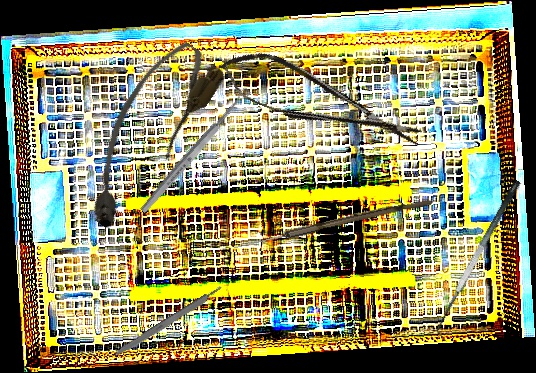Cannula: (61, 32, 230, 237)
Micro Scissor: (211, 37, 429, 168)
Scalpel Handle: (111, 284, 225, 361)
Spatula Surgical: (426, 178, 535, 343)
Surgical Spoon: (138, 86, 253, 215), (232, 194, 433, 254)
